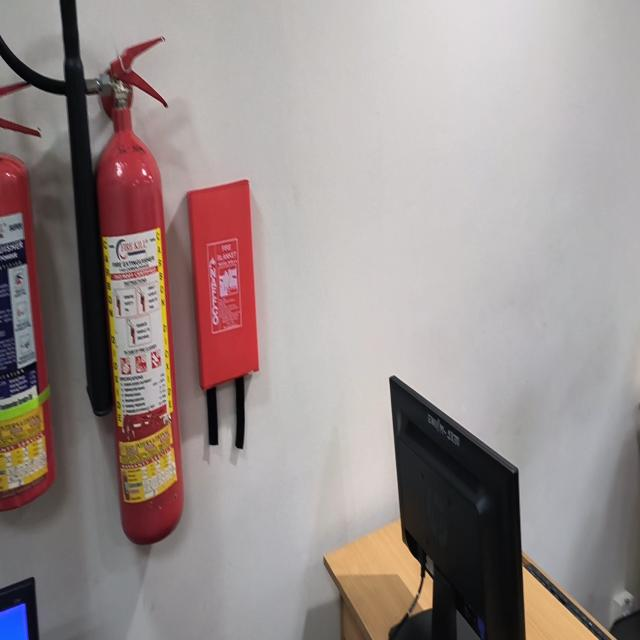Chair: (610, 609, 640, 639)
Fire Extinguisher: (97, 78, 183, 543), (0, 153, 56, 511)
Keyboard: (522, 555, 614, 639)
Monitor: (389, 376, 525, 639), (0, 577, 39, 639)
